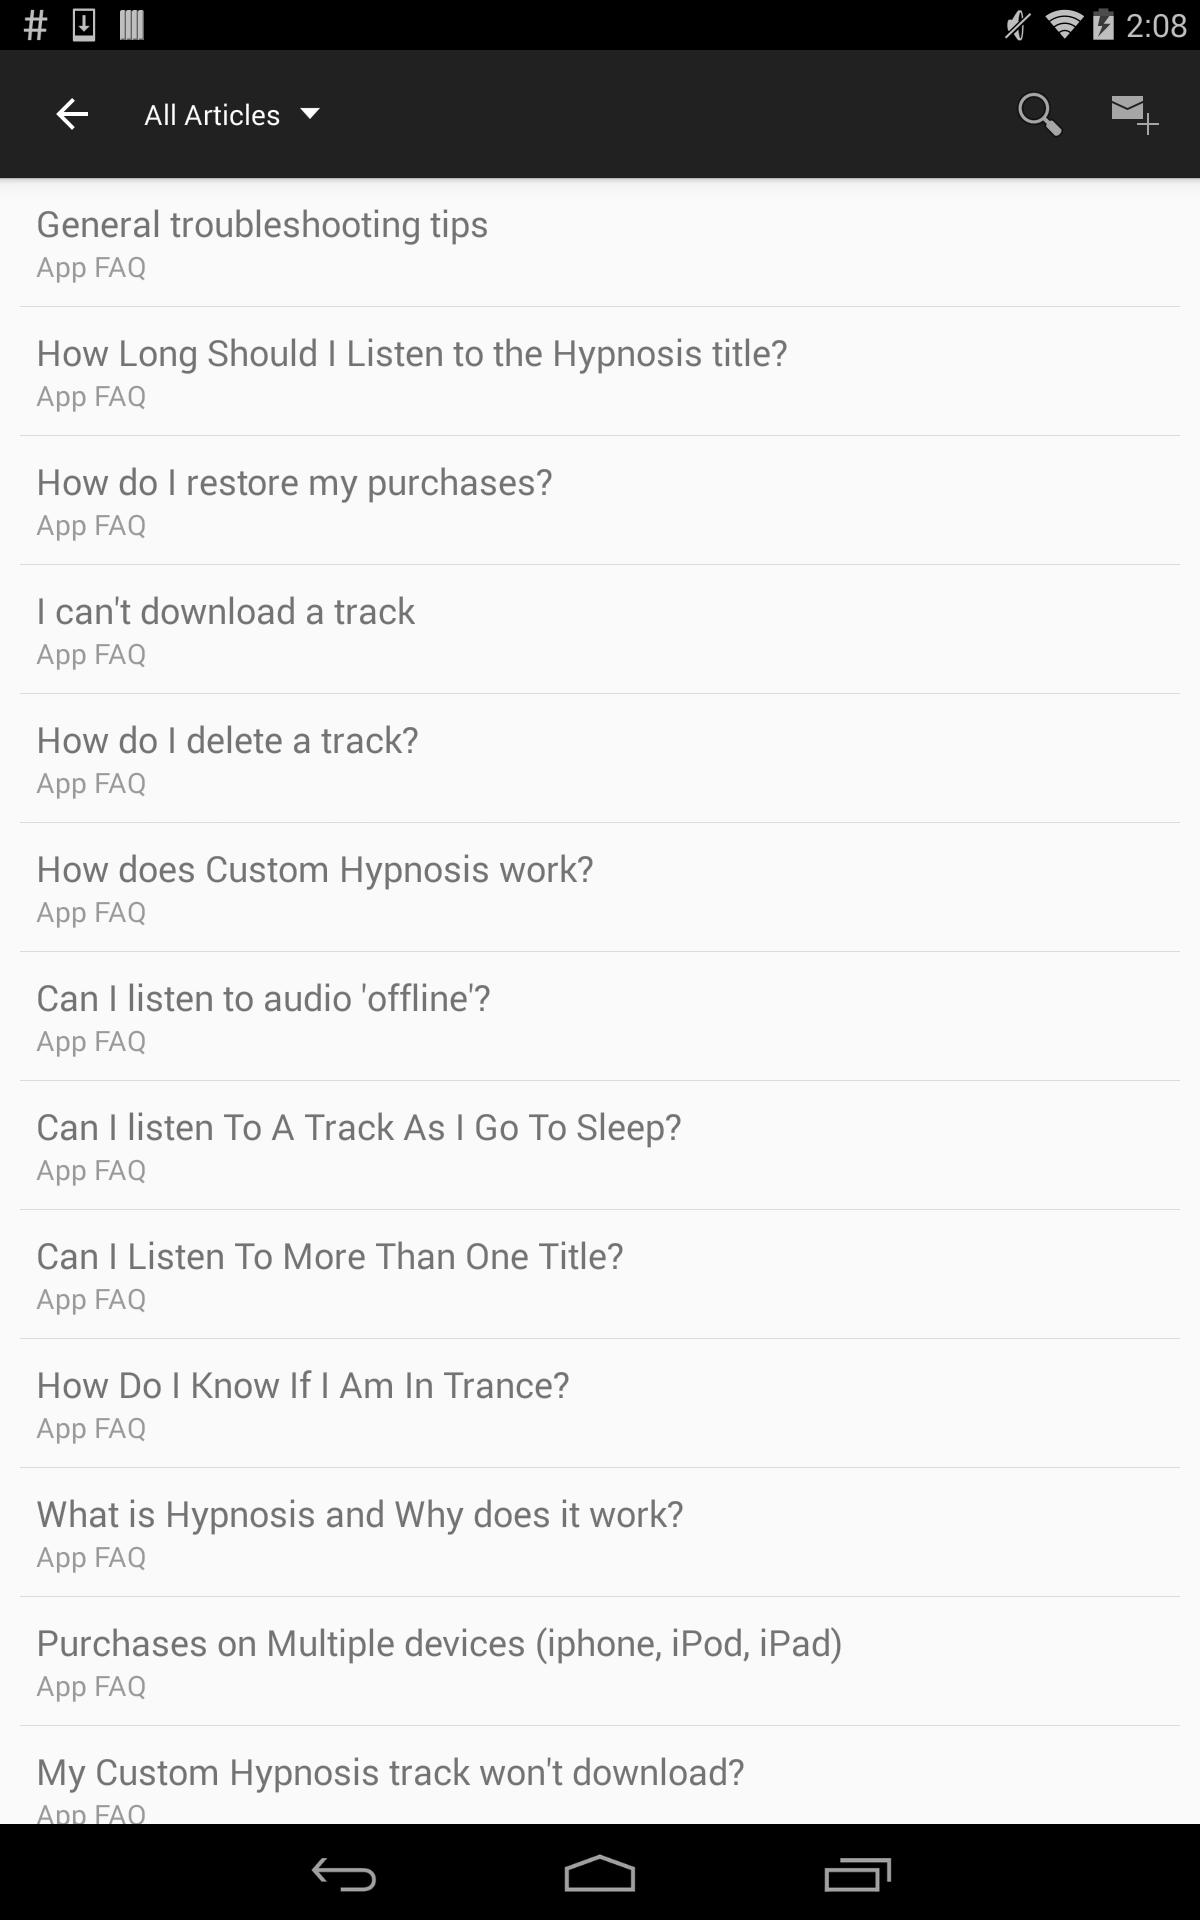android.support.v7.widget.LinearLayoutCompat: (993, 50, 1183, 178)
android.view.View: (0, 50, 1200, 1825), (0, 50, 1200, 178), (19, 305, 1181, 307), (19, 564, 1181, 565), (19, 693, 1181, 694), (19, 951, 1181, 952), (19, 1080, 1181, 1081), (19, 1338, 1181, 1339), (19, 1467, 1181, 1468), (19, 1725, 1181, 1726)
android.widget.FrameLayout: (0, 0, 1200, 1825), (0, 50, 1200, 1825), (0, 178, 1200, 1825), (0, 50, 1200, 178)
android.widget.ImageButton: (17, 50, 129, 178)
android.widget.LinearLayout: (0, 0, 1200, 1825), (0, 435, 1200, 565), (0, 822, 1200, 952), (0, 1210, 1200, 1339), (0, 1597, 1200, 1726), (0, 178, 1200, 307), (0, 307, 1200, 435), (0, 565, 1200, 694), (0, 694, 1200, 822), (0, 952, 1200, 1081), (0, 1081, 1200, 1210), (0, 1339, 1200, 1468), (0, 1468, 1200, 1597), (0, 1726, 1200, 1855), (19, 307, 1181, 435), (19, 435, 1181, 564), (19, 694, 1181, 822), (19, 822, 1181, 951), (19, 1081, 1181, 1210), (19, 1210, 1181, 1338), (19, 1468, 1181, 1597), (19, 1597, 1181, 1725), (19, 178, 1181, 305), (19, 565, 1181, 693), (19, 952, 1181, 1080), (19, 1339, 1181, 1467), (19, 1726, 1181, 1854)
android.widget.Spinner: (129, 66, 330, 162)
android.widget.TextView: (36, 1617, 843, 1666), (36, 328, 788, 376), (36, 1746, 745, 1796), (36, 1487, 684, 1537), (36, 1102, 683, 1150), (36, 1230, 624, 1279), (36, 843, 594, 892), (36, 1359, 571, 1409), (36, 456, 553, 505), (36, 972, 491, 1022), (36, 198, 489, 247), (36, 585, 415, 634), (36, 715, 419, 763), (129, 66, 299, 162), (993, 66, 1088, 162), (1088, 66, 1183, 162), (36, 376, 147, 415), (36, 505, 147, 543), (36, 892, 147, 930), (36, 1279, 147, 1317), (36, 1666, 147, 1704), (36, 247, 147, 285), (36, 634, 147, 672), (36, 763, 147, 800), (36, 1022, 147, 1059), (36, 1150, 147, 1187), (36, 1409, 147, 1446), (36, 1537, 147, 1574), (36, 1796, 147, 1833)
android.widget.ViewFlipper: (0, 178, 1200, 1825)
